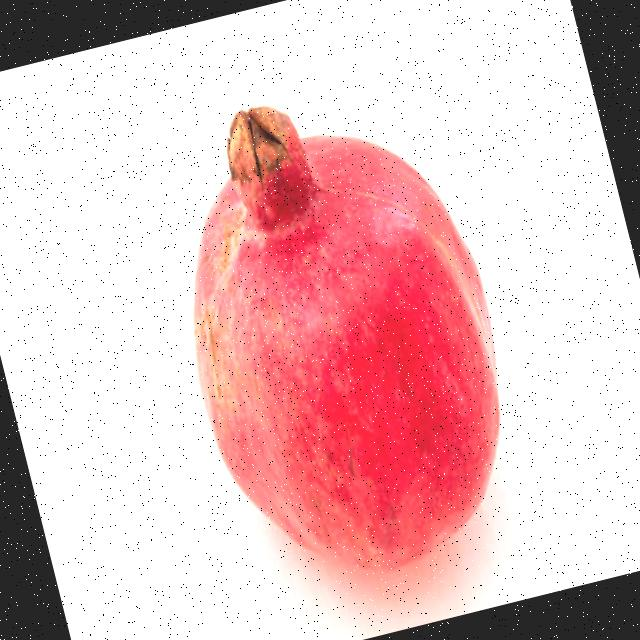Ripe: (128, 52, 550, 608)
